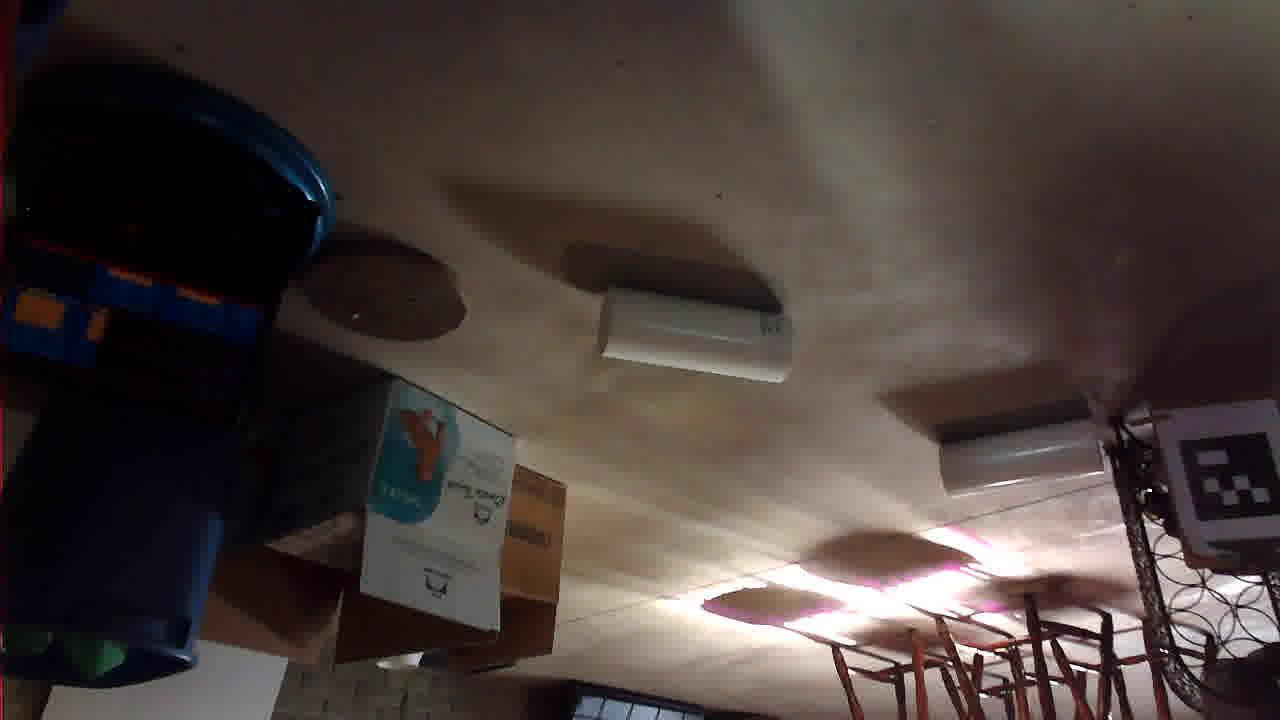coral: (487, 336, 681, 433), (175, 220, 340, 304)
